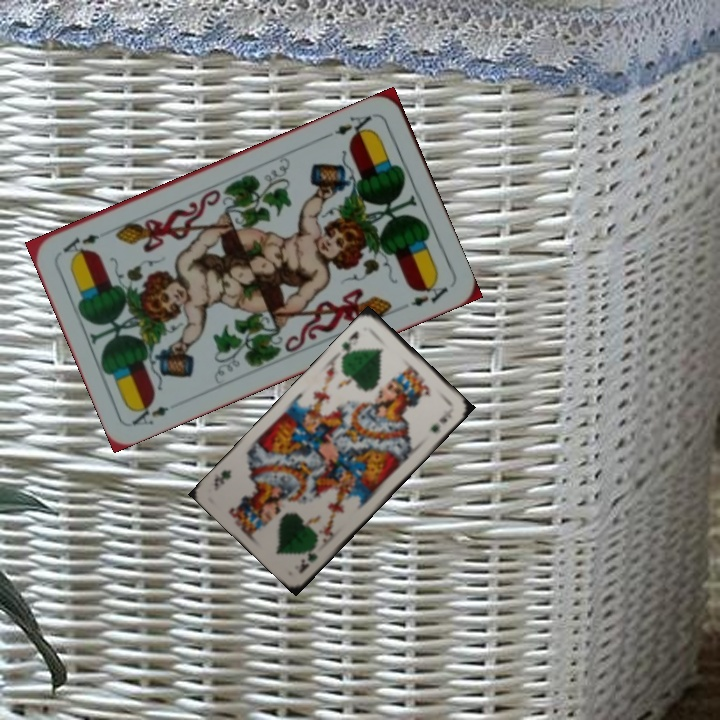EA: (322, 111, 375, 142), (128, 397, 172, 429)
GK: (294, 540, 320, 576), (338, 327, 361, 359)
